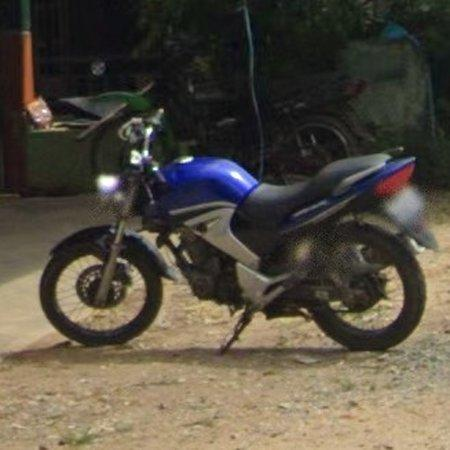motorcycles: (41, 109, 437, 352)
